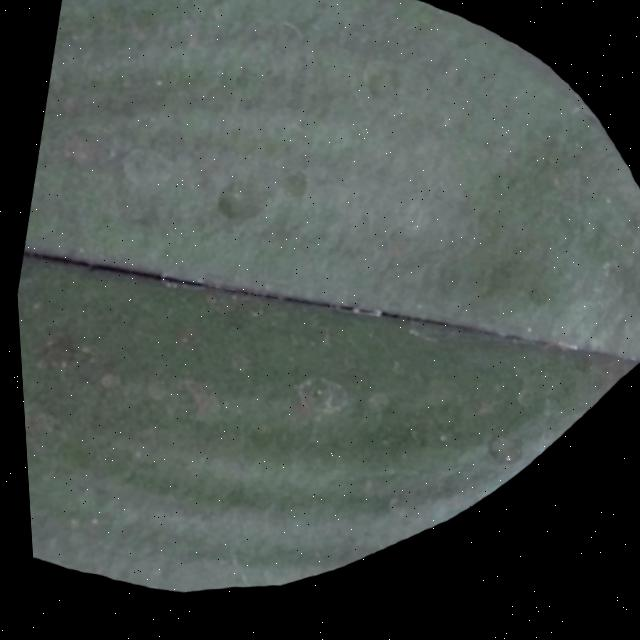mite: (174, 152, 385, 431), (206, 158, 312, 238), (284, 375, 348, 426), (207, 186, 256, 229), (271, 166, 315, 210), (476, 435, 521, 474), (277, 172, 309, 204), (211, 192, 242, 224), (213, 199, 235, 221), (304, 386, 322, 404)
